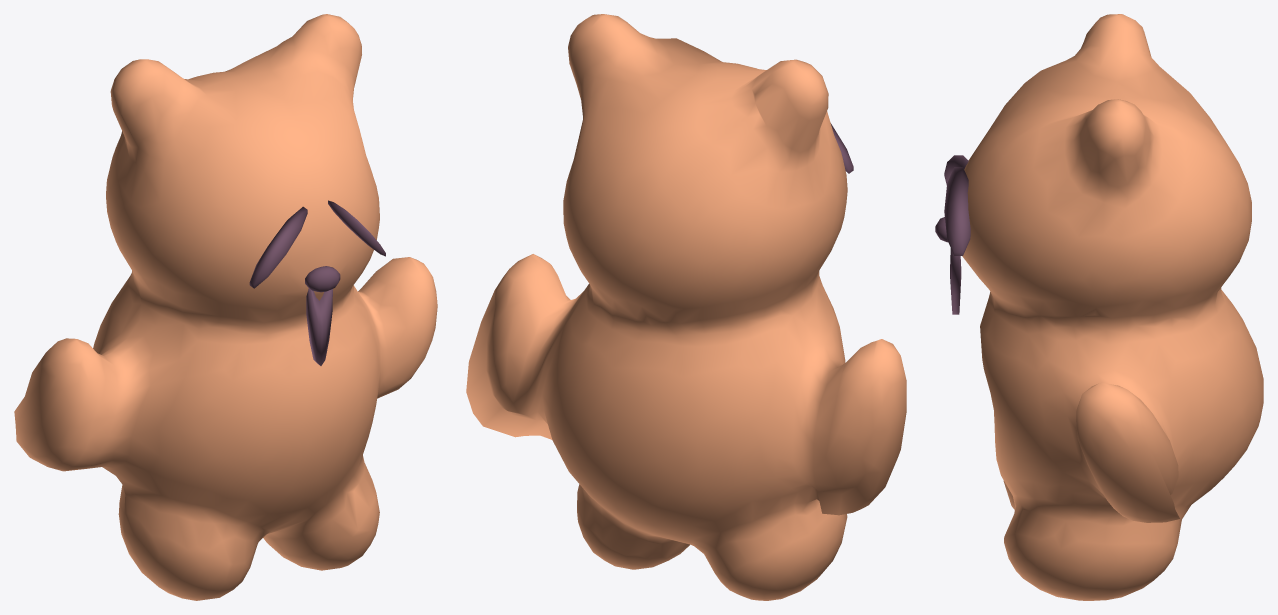
The model's file is gummy.glb.
3 views of the same model, side by side, from view 1: azimuth 30°, elevation 25°; view 2: azimuth 150°, elevation 25°; view 3: azimuth 270°, elevation 25° (orthographic). The views are drawn at different scales.
Visible parts, largest first — view 1: GummyBear; view 2: GummyBear; view 3: GummyBear.
Boxes of the visible parts, x1=… form: GummyBear: x1=14, y1=14, x2=437, y2=600; GummyBear: x1=466, y1=14, x2=906, y2=600; GummyBear: x1=935, y1=14, x2=1263, y2=600.
Size of what is drawn, in the model's own units: 0.7907 by 0.9961 by 0.5817.
